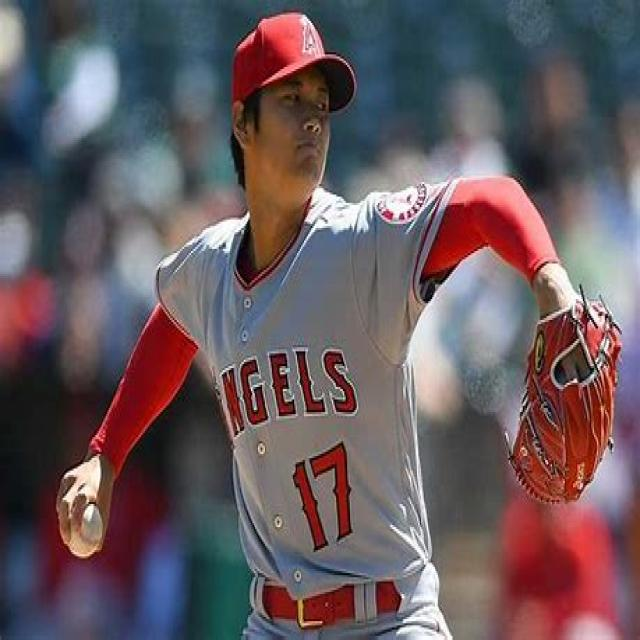glove: (501, 276, 629, 511)
